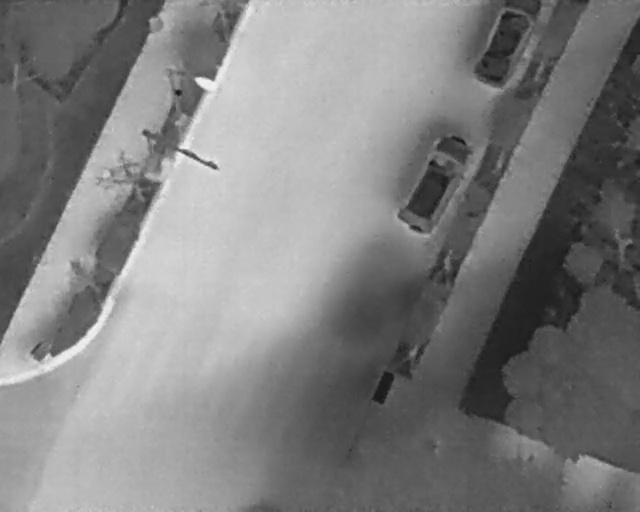Car: (387, 123, 483, 245), (472, 0, 542, 90)
